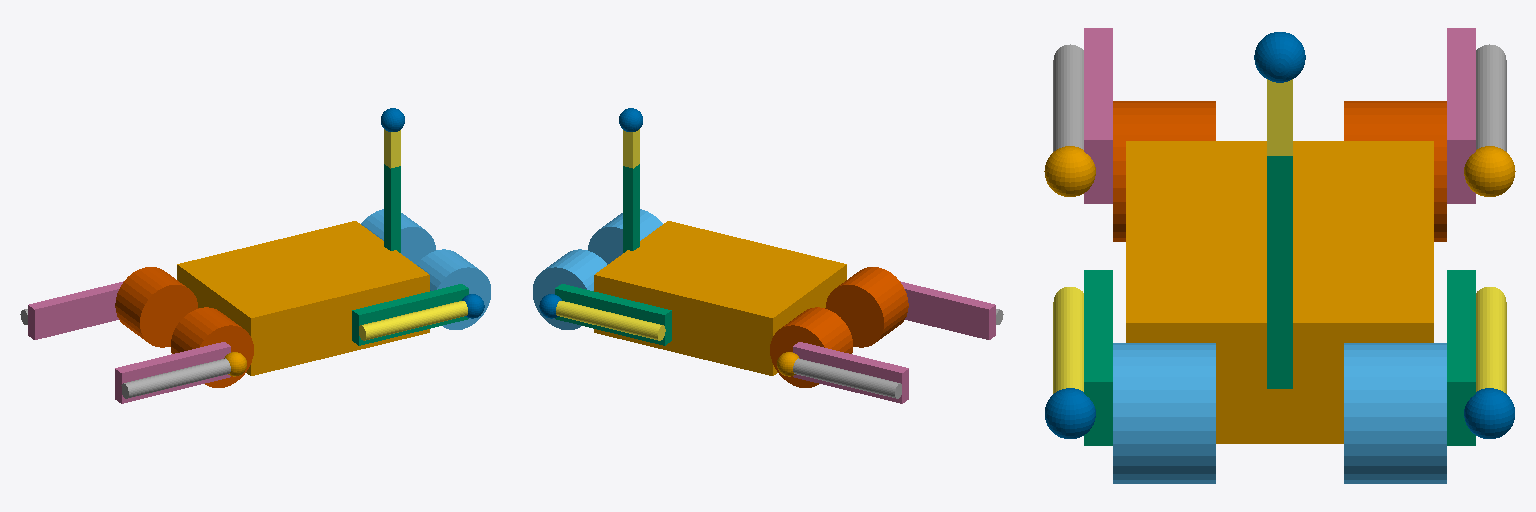
--- What the picture shows (computed from the rendered views, not written in the file) ---
3 views of the same robot in one strip: view 1: azimuth 30°, elevation 25°; view 2: azimuth 150°, elevation 25°; view 3: azimuth 270°, elevation 25° (orthographic).
Robot: spirit — 21 links, 20 joints (14 revolute, 6 fixed); root link body; default pose: joints at zero except 1 at the middle of their limits (body_tail_joint_0 = -1.57).
Visible links, largest first — view 1: body, hip1, upper1, hip3, upper2, upper3, hip2, lower2, lower3, hip0, tail_link_0, tail_link_1; view 2: body, hip3, upper3, hip1, upper0, upper1, hip0, lower0, lower1, hip2, tail_link_0, tail_link_1; view 3: body, hip0, hip2, tail_link_0, hip1, hip3, upper0, upper2, upper1, upper3, lower1, lower3 (+8 smaller).
Link boxes in pixels (left/top/right/bottom): body: left=177, top=221, right=429, bottom=375; hip1: left=115, top=267, right=198, bottom=347; upper1: left=28, top=281, right=123, bottom=339; hip3: left=171, top=307, right=253, bottom=387; upper2: left=352, top=284, right=468, bottom=345; upper3: left=115, top=342, right=230, bottom=403; hip2: left=417, top=249, right=490, bottom=329; lower2: left=359, top=301, right=467, bottom=340; lower3: left=121, top=358, right=230, bottom=398; hip0: left=361, top=209, right=435, bottom=264; tail_link_0: left=384, top=164, right=400, bottom=252; tail_link_1: left=384, top=129, right=400, bottom=168; body: left=594, top=221, right=846, bottom=375; hip3: left=825, top=267, right=908, bottom=347; upper3: left=900, top=281, right=995, bottom=339; hip1: left=770, top=307, right=852, bottom=387; upper0: left=555, top=284, right=671, bottom=345; upper1: left=793, top=342, right=908, bottom=403; hip0: left=533, top=249, right=606, bottom=329; lower0: left=556, top=301, right=665, bottom=340; lower1: left=793, top=358, right=901, bottom=398; hip2: left=588, top=209, right=662, bottom=264; tail_link_0: left=623, top=164, right=639, bottom=252; tail_link_1: left=623, top=129, right=639, bottom=168; body: left=1126, top=141, right=1433, bottom=443; hip0: left=1344, top=343, right=1446, bottom=483; hip2: left=1113, top=343, right=1215, bottom=483; tail_link_0: left=1267, top=156, right=1292, bottom=388; hip1: left=1344, top=101, right=1446, bottom=241; hip3: left=1113, top=101, right=1215, bottom=241; upper0: left=1447, top=270, right=1475, bottom=445; upper2: left=1084, top=270, right=1112, bottom=445; upper1: left=1447, top=28, right=1475, bottom=203; upper3: left=1084, top=28, right=1112, bottom=203; lower1: left=1476, top=44, right=1506, bottom=151; lower3: left=1053, top=44, right=1083, bottom=151.
Size in the robot's own frame: 0.706 by 0.366 by 0.355 metres.
Geometry: primitives only (box / cylinder / sphere), no mesh files.

robot.urdf — spirit:
<?xml version="1.0" encoding="utf-8"?>
<!-- =================================================================================== -->
<!-- |    This document was autogenerated by xacro from test_out_new.urdf.xacro        | -->
<!-- |    EDITING THIS FILE BY HAND IS NOT RECOMMENDED                                 | -->
<!-- =================================================================================== -->
<!-- 
MIT License (modified)
Copyright (c) 2020 Ghost Robotics
Authors:
Avik De <[email redacted]>
Tom Jacobs <[email redacted]>
Permission is hereby granted, free of charge, to any person obtaining a copy
of this **file** (the "Software"), to deal
in the Software without restriction, including without limitation the rights
to use, copy, modify, merge, publish, distribute, sublicense, and/or sell
copies of the Software, and to permit persons to whom the Software is
furnished to do so, subject to the following conditions:
The above copyright notice and this permission notice shall be included in all
copies or substantial portions of the Software.
THE SOFTWARE IS PROVIDED "AS IS", WITHOUT WARRANTY OF ANY KIND, EXPRESS OR
IMPLIED, INCLUDING BUT NOT LIMITED TO THE WARRANTIES OF MERCHANTABILITY,
FITNESS FOR A PARTICULAR PURPOSE AND NONINFRINGEMENT. IN NO EVENT SHALL THE
AUTHORS OR COPYRIGHT HOLDERS BE LIABLE FOR ANY CLAIM, DAMAGES OR OTHER
LIABILITY, WHETHER IN AN ACTION OF CONTRACT, TORT OR OTHERWISE, ARISING FROM,
OUT OF OR IN CONNECTION WITH THE SOFTWARE OR THE USE OR OTHER DEALINGS IN THE
SOFTWARE. 
-->
<robot name="spirit">
  <!-- Body -->
  <link name="body">
    <visual>
      <origin rpy="0 0 0" xyz="0 0 0"/>
      <geometry>
        <box size="0.335 0.24 0.104"/>
      </geometry>
      <material name="darkgray"/>
    </visual>
    <inertial>
      <mass value="5.75"/>
      <inertia ixx="0.05" ixy="0" ixz="0" iyy="0.1" iyz="0" izz="0.1"/>
    </inertial>
    <!-- Just copy geometry for collision -->
    <collision>
      <origin rpy="0 0 0" xyz="0 0 0"/>
      <geometry>
        <box size="0.335 0.24 0.104"/>
        <!-- <uri>model:///meshes/Spirit40_Body_Mesh_transformed.stl</uri> -->
      </geometry>
    </collision>
  </link>
  <gazebo reference="body">
    <material>Gazebo/Black</material>
    <gravity>true</gravity>
  </gazebo>
  <!-- Hip motor -->
  <link name="hip0">
    <visual>
      <origin rpy="1.5707963268 0 0" xyz="0 0.028 0"/>
      <geometry>
        <cylinder length="0.08" radius="0.055"/>
      </geometry>
    </visual>
    <collision>
      <origin rpy="1.5707963268 0 0" xyz="0 0.028 0"/>
      <geometry>
        Radius
					
        <box size="0.11 0.11 0.08"/>
      </geometry>
    </collision>
    <inertial>
      <origin rpy="0 0 0" xyz="0 0.028 0"/>
      <mass value="0.575"/>
      <inertia ixx="0.00066963541" ixy="0" ixz="0" iyy="0.00066963541" iyz="0" izz="0.0008696875"/>
    </inertial>
  </link>
  <gazebo reference="hip0">
    <material>Gazebo/Grey</material>
  </gazebo>
  <!-- Upper leg -->
  <link name="upper0">
    <visual>
      <origin rpy="0 0 0" xyz="-0.103 -0.022 0"/>
      <geometry>
        <box size="0.206 0.022 0.055"/>
      </geometry>
      <material name="silver"/>
    </visual>
    <collision>
      <origin rpy="0 0 0" xyz="-0.103 -0.022 0"/>
      <geometry>
        <box size="0.206 0.022 0.055"/>
      </geometry>
    </collision>
    <inertial>
      <origin rpy="0 0 0" xyz="-0.103 -0.022 0"/>
      <mass value="0.775"/>
      <inertia ixx="5e-05" ixy="0" ixz="0" iyy="0.001" iyz="0" izz="0.001"/>
    </inertial>
  </link>
  <gazebo reference="upper0">
    <material>Gazebo/DarkGrey</material>
  </gazebo>
  <!-- Abduction joint. Joint names are: 8 9 10 11 -->
  <joint name="8" type="revolute">
    <parent link="body"/>
    <child link="hip0"/>
    <axis xyz="1 0 0"/>
    <origin xyz="0.2225 0.062 0"/>
    <limit effort="40" lower="-0.707" upper="0.707" velocity="30"/>
    <dynamics damping="0.0" friction="0.0"/>
  </joint>
  <!-- Transmission elements required for Gazebo -->
  <transmission name="transmission_8">
    <type>transmission_interface/SimpleTransmission</type>
    <joint name="8">
      <hardwareInterface>hardware_interface/EffortJointInterface</hardwareInterface>
    </joint>
    <actuator name="motor_8">
      <hardwareInterface>EffortJointInterface</hardwareInterface>
      <mechanicalReduction>1</mechanicalReduction>
    </actuator>
  </transmission>
  <!-- Hip joint. (Motor to upper leg). Joint names are: 0 2 4 6 -->
  <joint name="0" type="revolute">
    <parent link="hip0"/>
    <child link="upper0"/>
    <axis xyz="0 -1 0"/>
    <origin xyz="0 0.10098 0"/>
    <!--  rpy="0 -0.3 0" -->
    <limit effort="40" lower="-6.28318530718" upper="6.28318530718" velocity="30"/>
    <dynamics damping="0.0" friction="0.0"/>
  </joint>
  <!-- Transmission elements required for Gazebo -->
  <transmission name="transmission_0">
    <type>transmission_interface/SimpleTransmission</type>
    <joint name="0">
      <hardwareInterface>hardware_interface/EffortJointInterface</hardwareInterface>
    </joint>
    <actuator name="motor_0">
      <hardwareInterface>EffortJointInterface</hardwareInterface>
      <mechanicalReduction>1</mechanicalReduction>
    </actuator>
  </transmission>
  <!-- Lower leg -->
  <link name="lower0">
    <visual>
      <origin rpy="0 1.5707963268 0" xyz="0.103 0 0"/>
      <geometry>
        <cylinder length="0.206" radius="0.013"/>
      </geometry>
      <material name="darkgray"/>
    </visual>
    <collision>
      <origin rpy="0 1.5707963268 0" xyz="0.103 0 0"/>
      <geometry>
        <cylinder length="0.206" radius="0.013"/>
      </geometry>
    </collision>
    <inertial>
      <origin rpy="0 0 0" xyz="0.103 0 0"/>
      <mass value="0.075"/>
      <inertia ixx="5e-06" ixy="0" ixz="0" iyy="0.0001" iyz="0" izz="0.0001"/>
    </inertial>
  </link>
  <gazebo reference="lower0">
    <material>Gazebo/Grey</material>
  </gazebo>
  <!-- Knee joint. Joint names are: 1 3 5 7 -->
  <joint name="1" type="revolute">
    <parent link="upper0"/>
    <child link="lower0"/>
    <axis xyz="0 1 0"/>
    <origin xyz="-0.206 0 0"/>
    <limit effort="40" lower="0" upper="3.14159265359" velocity="30"/>
    <dynamics damping="0.0" friction="0.0"/>
  </joint>
  <!-- Transmission elements required for Gazebo -->
  <transmission name="transmission_1">
    <type>transmission_interface/SimpleTransmission</type>
    <joint name="1">
      <hardwareInterface>hardware_interface/EffortJointInterface</hardwareInterface>
    </joint>
    <actuator name="motor_1">
      <hardwareInterface>EffortJointInterface</hardwareInterface>
      <mechanicalReduction>1</mechanicalReduction>
    </actuator>
  </transmission>
  <!-- Toe -->
  <link name="toe0">
    <contact>
      <friction_anchor/>
      <stiffness value="30000.0"/>
      <damping value="1000.0"/>
      <spinning_friction value="0.3"/>
      <lateral_friction value="50.0"/>
    </contact>
    <visual>
      <origin rpy="0 0 0" xyz="0 0 0"/>
      <geometry>
        <sphere radius="0.02"/>
      </geometry>
      <material name="darkgray"/>
    </visual>
    <collision>
      <origin rpy="0 0 0" xyz="0 0 0"/>
      <geometry>
        <sphere radius="0.02"/>
      </geometry>
    </collision>
    <inertial>
      <mass value="0.015"/>
      <inertia ixx="0.000025" ixy="0" ixz="0" iyy="0.000025" iyz="0" izz="0.000025"/>
    </inertial>
  </link>
  <gazebo reference="toe0">
    <material>Gazebo/Black</material>
    <collision>
      <surface>
        <bounce>
          <restitution_coefficient>0</restitution_coefficient>
          <threshold>1e+06</threshold>
        </bounce>
        <friction>
          <torsional>
            <coefficient>0.3</coefficient>
          </torsional>
          <ode>
            <mu>100.0</mu>
            <mu2>50.0</mu2>
          </ode>
          <bullet>
            <rolling_friction>0.3</rolling_friction>
            <friction2>50.0</friction2>
          </bullet>
        </friction>
        <contact>
          <bullet>
            <kp>30000.0</kp>
            <kd>1000.0</kd>
          </bullet>
          <ode>
            <kp>30000.0</kp>
            <kd>1000.0</kd>
          </ode>
        </contact>
      </surface>
    </collision>
    <sensor name="toe0_contact" type="contact">
      <plugin filename="libgazebo_ros_bumper.so" name="toe0_plugin">
        <alwaysOn>1</alwaysOn>
        <updateRate>1000</updateRate>
        <bumperTopicName>gazebo/toe0_contact_state</bumperTopicName>
        <frameName>world</frameName>
        <robotNamespace>/</robotNamespace>
      </plugin>
      <contact>
        <collision>toe0_collision</collision>
        <topic>__default_topic__</topic>
      </contact>
      <update_rate>1000</update_rate>
    </sensor>
  </gazebo>
  <!-- Hip motor -->
  <link name="hip1">
    <visual>
      <origin rpy="1.5707963268 0 0" xyz="0 0.028 0"/>
      <geometry>
        <cylinder length="0.08" radius="0.055"/>
      </geometry>
    </visual>
    <collision>
      <origin rpy="1.5707963268 0 0" xyz="0 0.028 0"/>
      <geometry>
        Radius
					
        <box size="0.11 0.11 0.08"/>
      </geometry>
    </collision>
    <inertial>
      <origin rpy="0 0 0" xyz="0 0.028 0"/>
      <mass value="0.575"/>
      <inertia ixx="0.00066963541" ixy="0" ixz="0" iyy="0.00066963541" iyz="0" izz="0.0008696875"/>
    </inertial>
  </link>
  <gazebo reference="hip1">
    <material>Gazebo/Grey</material>
  </gazebo>
  <!-- Upper leg -->
  <link name="upper1">
    <visual>
      <origin rpy="0 0 0" xyz="-0.103 -0.022 0"/>
      <geometry>
        <box size="0.206 0.022 0.055"/>
      </geometry>
      <material name="silver"/>
    </visual>
    <collision>
      <origin rpy="0 0 0" xyz="-0.103 -0.022 0"/>
      <geometry>
        <box size="0.206 0.022 0.055"/>
      </geometry>
    </collision>
    <inertial>
      <origin rpy="0 0 0" xyz="-0.103 -0.022 0"/>
      <mass value="0.775"/>
      <inertia ixx="5e-05" ixy="0" ixz="0" iyy="0.001" iyz="0" izz="0.001"/>
    </inertial>
  </link>
  <gazebo reference="upper1">
    <material>Gazebo/DarkGrey</material>
  </gazebo>
  <!-- Abduction joint. Joint names are: 8 9 10 11 -->
  <joint name="9" type="revolute">
    <parent link="body"/>
    <child link="hip1"/>
    <axis xyz="1 0 0"/>
    <origin xyz="-0.2225 0.062 0"/>
    <limit effort="40" lower="-0.707" upper="0.707" velocity="30"/>
    <dynamics damping="0.0" friction="0.0"/>
  </joint>
  <!-- Transmission elements required for Gazebo -->
  <transmission name="transmission_9">
    <type>transmission_interface/SimpleTransmission</type>
    <joint name="9">
      <hardwareInterface>hardware_interface/EffortJointInterface</hardwareInterface>
    </joint>
    <actuator name="motor_9">
      <hardwareInterface>EffortJointInterface</hardwareInterface>
      <mechanicalReduction>1</mechanicalReduction>
    </actuator>
  </transmission>
  <!-- Hip joint. (Motor to upper leg). Joint names are: 0 2 4 6 -->
  <joint name="2" type="revolute">
    <parent link="hip1"/>
    <child link="upper1"/>
    <axis xyz="0 -1 0"/>
    <origin xyz="0 0.10098 0"/>
    <!--  rpy="0 -0.3 0" -->
    <limit effort="40" lower="-6.28318530718" upper="6.28318530718" velocity="30"/>
    <dynamics damping="0.0" friction="0.0"/>
  </joint>
  <!-- Transmission elements required for Gazebo -->
  <transmission name="transmission_2">
    <type>transmission_interface/SimpleTransmission</type>
    <joint name="2">
      <hardwareInterface>hardware_interface/EffortJointInterface</hardwareInterface>
    </joint>
    <actuator name="motor_2">
      <hardwareInterface>EffortJointInterface</hardwareInterface>
      <mechanicalReduction>1</mechanicalReduction>
    </actuator>
  </transmission>
  <!-- Lower leg -->
  <link name="lower1">
    <visual>
      <origin rpy="0 1.5707963268 0" xyz="0.103 0 0"/>
      <geometry>
        <cylinder length="0.206" radius="0.013"/>
      </geometry>
      <material name="darkgray"/>
    </visual>
    <collision>
      <origin rpy="0 1.5707963268 0" xyz="0.103 0 0"/>
      <geometry>
        <cylinder length="0.206" radius="0.013"/>
      </geometry>
    </collision>
    <inertial>
      <origin rpy="0 0 0" xyz="0.103 0 0"/>
      <mass value="0.075"/>
      <inertia ixx="5e-06" ixy="0" ixz="0" iyy="0.0001" iyz="0" izz="0.0001"/>
    </inertial>
  </link>
  <gazebo reference="lower1">
    <material>Gazebo/Grey</material>
  </gazebo>
  <!-- Knee joint. Joint names are: 1 3 5 7 -->
  <joint name="3" type="revolute">
    <parent link="upper1"/>
    <child link="lower1"/>
    <axis xyz="0 1 0"/>
    <origin xyz="-0.206 0 0"/>
    <limit effort="40" lower="0" upper="3.14159265359" velocity="30"/>
    <dynamics damping="0.0" friction="0.0"/>
  </joint>
  <!-- Transmission elements required for Gazebo -->
  <transmission name="transmission_3">
    <type>transmission_interface/SimpleTransmission</type>
    <joint name="3">
      <hardwareInterface>hardware_interface/EffortJointInterface</hardwareInterface>
    </joint>
    <actuator name="motor_3">
      <hardwareInterface>EffortJointInterface</hardwareInterface>
      <mechanicalReduction>1</mechanicalReduction>
    </actuator>
  </transmission>
  <!-- Toe -->
  <link name="toe1">
    <contact>
      <friction_anchor/>
      <stiffness value="30000.0"/>
      <damping value="1000.0"/>
      <spinning_friction value="0.3"/>
      <lateral_friction value="50.0"/>
    </contact>
    <visual>
      <origin rpy="0 0 0" xyz="0 0 0"/>
      <geometry>
        <sphere radius="0.02"/>
      </geometry>
      <material name="darkgray"/>
    </visual>
    <collision>
      <origin rpy="0 0 0" xyz="0 0 0"/>
      <geometry>
        <sphere radius="0.02"/>
      </geometry>
    </collision>
    <inertial>
      <mass value="0.015"/>
      <inertia ixx="0.000025" ixy="0" ixz="0" iyy="0.000025" iyz="0" izz="0.000025"/>
    </inertial>
  </link>
  <gazebo reference="toe1">
    <material>Gazebo/Black</material>
    <collision>
      <surface>
        <bounce>
          <restitution_coefficient>0</restitution_coefficient>
          <threshold>1e+06</threshold>
        </bounce>
        <friction>
          <torsional>
            <coefficient>0.3</coefficient>
          </torsional>
          <ode>
            <mu>100.0</mu>
            <mu2>50.0</mu2>
          </ode>
          <bullet>
            <rolling_friction>0.3</rolling_friction>
            <friction2>50.0</friction2>
          </bullet>
        </friction>
        <contact>
          <bullet>
            <kp>30000.0</kp>
            <kd>1000.0</kd>
          </bullet>
          <ode>
            <kp>30000.0</kp>
            <kd>1000.0</kd>
          </ode>
        </contact>
      </surface>
    </collision>
    <sensor name="toe1_contact" type="contact">
      <plugin filename="libgazebo_ros_bumper.so" name="toe1_plugin">
        <alwaysOn>1</alwaysOn>
        <updateRate>1000</updateRate>
        <bumperTopicName>gazebo/toe1_contact_state</bumperTopicName>
        <frameName>world</frameName>
        <robotNamespace>/</robotNamespace>
      </plugin>
      <contact>
        <collision>toe1_collision</collision>
        <topic>__default_topic__</topic>
      </contact>
      <update_rate>1000</update_rate>
    </sensor>
  </gazebo>
  <!-- Hip motor -->
  <link name="hip2">
    <visual>
      <origin rpy="1.5707963268 0 0" xyz="0 -0.028 0"/>
      <geometry>
        <cylinder length="0.08" radius="0.055"/>
      </geometry>
    </visual>
    <collision>
      <origin rpy="1.5707963268 0 0" xyz="0 -0.028 0"/>
      <geometry>
        Radius
					
        <box size="0.11 0.11 0.08"/>
      </geometry>
    </collision>
    <inertial>
      <origin rpy="0 0 0" xyz="0 -0.028 0"/>
      <mass value="0.575"/>
      <inertia ixx="0.00066963541" ixy="0" ixz="0" iyy="0.00066963541" iyz="0" izz="0.0008696875"/>
    </inertial>
  </link>
  <gazebo reference="hip2">
    <material>Gazebo/Grey</material>
  </gazebo>
  <!-- Upper leg -->
  <link name="upper2">
    <visual>
      <origin rpy="0 0 0" xyz="-0.103 0.022 0"/>
      <geometry>
        <box size="0.206 0.022 0.055"/>
      </geometry>
      <material name="silver"/>
    </visual>
    <collision>
      <origin rpy="0 0 0" xyz="-0.103 0.022 0"/>
      <geometry>
        <box size="0.206 0.022 0.055"/>
      </geometry>
    </collision>
    <inertial>
      <origin rpy="0 0 0" xyz="-0.103 0.022 0"/>
      <mass value="0.775"/>
      <inertia ixx="5e-05" ixy="0" ixz="0" iyy="0.001" iyz="0" izz="0.001"/>
    </inertial>
  </link>
  <gazebo reference="upper2">
    <material>Gazebo/DarkGrey</material>
  </gazebo>
  <!-- Abduction joint. Joint names are: 8 9 10 11 -->
  <joint name="10" type="revolute">
    <parent link="body"/>
    <child link="hip2"/>
    <axis xyz="1 0 0"/>
    <origin xyz="0.2225 -0.062 0"/>
    <limit effort="40" lower="-0.707" upper="0.707" velocity="30"/>
    <dynamics damping="0.0" friction="0.0"/>
  </joint>
  <!-- Transmission elements required for Gazebo -->
  <transmission name="transmission_10">
    <type>transmission_interface/SimpleTransmission</type>
    <joint name="10">
      <hardwareInterface>hardware_interface/EffortJointInterface</hardwareInterface>
    </joint>
    <actuator name="motor_10">
      <hardwareInterface>EffortJointInterface</hardwareInterface>
      <mechanicalReduction>1</mechanicalReduction>
    </actuator>
  </transmission>
  <!-- Hip joint. (Motor to upper leg). Joint names are: 0 2 4 6 -->
  <joint name="4" type="revolute">
    <parent link="hip2"/>
    <child link="upper2"/>
    <axis xyz="0 -1 0"/>
    <origin xyz="0 -0.10098 0"/>
    <!--  rpy="0 -0.3 0" -->
    <limit effort="40" lower="-6.28318530718" upper="6.28318530718" velocity="30"/>
    <dynamics damping="0.0" friction="0.0"/>
  </joint>
  <!-- Transmission elements required for Gazebo -->
  <transmission name="transmission_4">
    <type>transmission_interface/SimpleTransmission</type>
    <joint name="4">
      <hardwareInterface>hardware_interface/EffortJointInterface</hardwareInterface>
    </joint>
    <actuator name="motor_4">
      <hardwareInterface>EffortJointInterface</hardwareInterface>
      <mechanicalReduction>1</mechanicalReduction>
    </actuator>
  </transmission>
  <!-- Lower leg -->
  <link name="lower2">
    <visual>
      <origin rpy="0 1.5707963268 0" xyz="0.103 0 0"/>
      <geometry>
        <cylinder length="0.206" radius="0.013"/>
      </geometry>
      <material name="darkgray"/>
    </visual>
    <collision>
      <origin rpy="0 1.5707963268 0" xyz="0.103 0 0"/>
      <geometry>
        <cylinder length="0.206" radius="0.013"/>
      </geometry>
    </collision>
    <inertial>
      <origin rpy="0 0 0" xyz="0.103 0 0"/>
      <mass value="0.075"/>
      <inertia ixx="5e-06" ixy="0" ixz="0" iyy="0.0001" iyz="0" izz="0.0001"/>
    </inertial>
  </link>
  <gazebo reference="lower2">
    <material>Gazebo/Grey</material>
  </gazebo>
  <!-- Knee joint. Joint names are: 1 3 5 7 -->
  <joint name="5" type="revolute">
    <parent link="upper2"/>
    <child link="lower2"/>
    <axis xyz="0 1 0"/>
    <origin xyz="-0.206 0 0"/>
    <limit effort="40" lower="0" upper="3.14159265359" velocity="30"/>
    <dynamics damping="0.0" friction="0.0"/>
  </joint>
  <!-- Transmission elements required for Gazebo -->
  <transmission name="transmission_5">
    <type>transmission_interface/SimpleTransmission</type>
    <joint name="5">
      <hardwareInterface>hardware_interface/EffortJointInterface</hardwareInterface>
    </joint>
    <actuator name="motor_5">
      <hardwareInterface>EffortJointInterface</hardwareInterface>
      <mechanicalReduction>1</mechanicalReduction>
    </actuator>
  </transmission>
  <!-- Toe -->
  <link name="toe2">
    <contact>
      <friction_anchor/>
      <stiffness value="30000.0"/>
      <damping value="1000.0"/>
      <spinning_friction value="0.3"/>
      <lateral_friction value="50.0"/>
    </contact>
    <visual>
      <origin rpy="0 0 0" xyz="0 0 0"/>
      <geometry>
        <sphere radius="0.02"/>
      </geometry>
      <material name="darkgray"/>
    </visual>
    <collision>
      <origin rpy="0 0 0" xyz="0 0 0"/>
      <geometry>
        <sphere radius="0.02"/>
      </geometry>
    </collision>
    <inertial>
      <mass value="0.015"/>
      <inertia ixx="0.000025" ixy="0" ixz="0" iyy="0.000025" iyz="0" izz="0.000025"/>
    </inertial>
  </link>
  <gazebo reference="toe2">
    <material>Gazebo/Black</material>
    <collision>
      <surface>
        <bounce>
          <restitution_coefficient>0</restitution_coefficient>
          <threshold>1e+06</threshold>
        </bounce>
        <friction>
          <torsional>
            <coefficient>0.3</coefficient>
          </torsional>
          <ode>
            <mu>100.0</mu>
            <mu2>50.0</mu2>
          </ode>
          <bullet>
            <rolling_friction>0.3</rolling_friction>
            <friction2>50.0</friction2>
          </bullet>
        </friction>
        <contact>
          <bullet>
            <kp>30000.0</kp>
            <kd>1000.0</kd>
          </bullet>
          <ode>
            <kp>30000.0</kp>
            <kd>1000.0</kd>
          </ode>
        </contact>
      </surface>
    </collision>
    <sensor name="toe2_contact" type="contact">
      <plugin filename="libgazebo_ros_bumper.so" name="toe2_plugin">
        <alwaysOn>1</alwaysOn>
        <updateRate>1000</updateRate>
        <bumperTopicName>gazebo/toe2_contact_state</bumperTopicName>
        <frameName>world</frameName>
        <robotNamespace>/</robotNamespace>
      </plugin>
      <contact>
        <collision>toe2_collision</collision>
        <topic>__default_topic__</topic>
      </contact>
      <update_rate>1000</update_rate>
    </sensor>
  </gazebo>
  <!-- Hip motor -->
  <link name="hip3">
    <visual>
      <origin rpy="1.5707963268 0 0" xyz="0 -0.028 0"/>
      <geometry>
        <cylinder length="0.08" radius="0.055"/>
      </geometry>
    </visual>
    <collision>
      <origin rpy="1.5707963268 0 0" xyz="0 -0.028 0"/>
      <geometry>
        Radius
					
        <box size="0.11 0.11 0.08"/>
      </geometry>
    </collision>
    <inertial>
      <origin rpy="0 0 0" xyz="0 -0.028 0"/>
      <mass value="0.575"/>
      <inertia ixx="0.00066963541" ixy="0" ixz="0" iyy="0.00066963541" iyz="0" izz="0.0008696875"/>
    </inertial>
  </link>
  <gazebo reference="hip3">
    <material>Gazebo/Grey</material>
  </gazebo>
  <!-- Upper leg -->
  <link name="upper3">
    <visual>
      <origin rpy="0 0 0" xyz="-0.103 0.022 0"/>
      <geometry>
        <box size="0.206 0.022 0.055"/>
      </geometry>
      <material name="silver"/>
    </visual>
    <collision>
      <origin rpy="0 0 0" xyz="-0.103 0.022 0"/>
      <geometry>
        <box size="0.206 0.022 0.055"/>
      </geometry>
    </collision>
    <inertial>
      <origin rpy="0 0 0" xyz="-0.103 0.022 0"/>
      <mass value="0.775"/>
      <inertia ixx="5e-05" ixy="0" ixz="0" iyy="0.001" iyz="0" izz="0.001"/>
    </inertial>
  </link>
  <gazebo reference="upper3">
    <material>Gazebo/DarkGrey</material>
  </gazebo>
  <!-- Abduction joint. Joint names are: 8 9 10 11 -->
  <joint name="11" type="revolute">
    <parent link="body"/>
    <child link="hip3"/>
    <axis xyz="1 0 0"/>
    <origin xyz="-0.2225 -0.062 0"/>
    <limit effort="40" lower="-0.707" upper="0.707" velocity="30"/>
    <dynamics damping="0.0" friction="0.0"/>
  </joint>
  <!-- Transmission elements required for Gazebo -->
  <transmission name="transmission_11">
    <type>transmission_interface/SimpleTransmission</type>
    <joint name="11">
      <hardwareInterface>hardware_interface/EffortJointInterface</hardwareInterface>
    </joint>
    <actuator name="motor_11">
      <hardwareInterface>EffortJointInterface</hardwareInterface>
      <mechanicalReduction>1</mechanicalReduction>
    </actuator>
  </transmission>
  <!-- Hip joint. (Motor to upper leg). Joint names are: 0 2 4 6 -->
  <joint name="6" type="revolute">
    <parent link="hip3"/>
    <child link="upper3"/>
    <axis xyz="0 -1 0"/>
    <origin xyz="0 -0.10098 0"/>
    <!--  rpy="0 -0.3 0" -->
    <limit effort="40" lower="-6.28318530718" upper="6.28318530718" velocity="30"/>
    <dynamics damping="0.0" friction="0.0"/>
  </joint>
  <!-- Transmission elements required for Gazebo -->
  <transmission name="transmission_6">
    <type>transmission_interface/SimpleTransmission</type>
    <joint name="6">
      <hardwareInterface>hardware_interface/EffortJointInterface</hardwareInterface>
    </joint>
    <actuator name="motor_6">
      <hardwareInterface>EffortJointInterface</hardwareInterface>
      <mechanicalReduction>1</mechanicalReduction>
    </actuator>
  </transmission>
  <!-- Lower leg -->
  <link name="lower3">
    <visual>
      <origin rpy="0 1.5707963268 0" xyz="0.103 0 0"/>
      <geometry>
        <cylinder length="0.206" radius="0.013"/>
      </geometry>
      <material name="darkgray"/>
    </visual>
    <collision>
      <origin rpy="0 1.5707963268 0" xyz="0.103 0 0"/>
      <geometry>
        <cylinder length="0.206" radius="0.013"/>
      </geometry>
    </collision>
    <inertial>
      <origin rpy="0 0 0" xyz="0.103 0 0"/>
      <mass value="0.075"/>
      <inertia ixx="5e-06" ixy="0" ixz="0" iyy="0.0001" iyz="0" izz="0.0001"/>
    </inertial>
  </link>
  <gazebo reference="lower3">
    <material>Gazebo/Grey</material>
  </gazebo>
  <!-- Knee joint. Joint names are: 1 3 5 7 -->
  <joint name="7" type="revolute">
    <parent link="upper3"/>
    <child link="lower3"/>
    <axis xyz="0 1 0"/>
    <origin xyz="-0.206 0 0"/>
    <limit effort="40" lower="0" upper="3.14159265359" velocity="30"/>
    <dynamics damping="0.0" friction="0.0"/>
  </joint>
  <!-- Transmission elements required for Gazebo -->
  <transmission name="transmission_7">
    <type>transmission_interface/SimpleTransmission</type>
    <joint name="7">
      <hardwareInterface>hardware_interface/EffortJointInterface</hardwareInterface>
    </joint>
    <actuator name="motor_7">
      <hardwareInterface>EffortJointInterface</hardwareInterface>
      <mechanicalReduction>1</mechanicalReduction>
    </actuator>
  </transmission>
  <!-- Toe -->
  <link name="toe3">
    <contact>
      <friction_anchor/>
      <stiffness value="30000.0"/>
      <damping value="1000.0"/>
      <spinning_friction value="0.3"/>
      <lateral_friction value="50.0"/>
    </contact>
    <visual>
      <origin rpy="0 0 0" xyz="0 0 0"/>
      <geometry>
        <sphere radius="0.02"/>
      </geometry>
      <material name="darkgray"/>
    </visual>
    <collision>
      <origin rpy="0 0 0" xyz="0 0 0"/>
      <geometry>
        <sphere radius="0.02"/>
      </geometry>
    </collision>
    <inertial>
      <mass value="0.015"/>
      <inertia ixx="0.000025" ixy="0" ixz="0" iyy="0.000025" iyz="0" izz="0.000025"/>
    </inertial>
  </link>
  <gazebo reference="toe3">
    <material>Gazebo/Black</material>
    <collision>
      <surface>
        <bounce>
          <restitution_coefficient>0</restitution_coefficient>
          <threshold>1e+06</threshold>
        </bounce>
        <friction>
          <torsional>
            <coefficient>0.3</coefficient>
          </torsional>
          <ode>
            <mu>100.0</mu>
            <mu2>50.0</mu2>
          </ode>
          <bullet>
            <rolling_friction>0.3</rolling_friction>
            <friction2>50.0</friction2>
          </bullet>
        </friction>
        <contact>
          <bullet>
            <kp>30000.0</kp>
            <kd>1000.0</kd>
          </bullet>
          <ode>
            <kp>30000.0</kp>
            <kd>1000.0</kd>
          </ode>
        </contact>
      </surface>
    </collision>
    <sensor name="toe3_contact" type="contact">
      <plugin filename="libgazebo_ros_bumper.so" name="toe3_plugin">
        <alwaysOn>1</alwaysOn>
        <updateRate>1000</updateRate>
        <bumperTopicName>gazebo/toe3_contact_state</bumperTopicName>
        <frameName>world</frameName>
        <robotNamespace>/</robotNamespace>
      </plugin>
      <contact>
        <collision>toe3_collision</collision>
        <topic>__default_topic__</topic>
      </contact>
      <update_rate>1000</update_rate>
    </sensor>
  </gazebo>
  <link name="imu::link">
    <visual>
      <origin rpy="0 0 0" xyz="0 0 0"/>
      <geometry>
        <sphere radius="0.02"/>
      </geometry>
      <material name="gray"/>
    </visual>
    <inertial>
      <mass value="0.001"/>
      <inertia ixx="0.0001" ixy="0" ixz="0" iyy="0" iyz="0" izz="0"/>
    </inertial>
  </link>
  <gazebo reference="imu::link">
    <material>Gazebo/Gray</material>
    <sensor name="imu_sensor" type="imu">
      <always_on>1</always_on>
      <update_rate>100</update_rate>
      <visualize>1</visualize>
      <topic>__default_topic__</topic>
      <plugin filename="libgazebo_ros_imu_sensor.so" name="imu_plugin">
        <topicName>/mcu/state/imu</topicName>
        <bodyName>imu::link</bodyName>
        <robotNamespace>/</robotNamespace>
        <updateRateHZ>500.0</updateRateHZ>
        <gaussianNoise>0.0</gaussianNoise>
        <xyzOffset>0 0 0</xyzOffset>
        <rpyOffset>0 0 0</rpyOffset>
        <frameName>imu::link</frameName>
        <initialOrientationAsReference>0</initialOrientationAsReference>
      </plugin>
      <pose frame="">0 0 0 0 -0 0</pose>
      <imu/>
    </sensor>
  </gazebo>
  <link name="tail_link_0">
    <visual>
      <origin rpy="0 0 0" xyz="0.1 0 0"/>
      <geometry>
        <box size="0.2 0.02 0.02"/>
      </geometry>
      <material name="darkgray"/>
    </visual>
    <inertial>
      <origin rpy="0 0 0" xyz="0.1 0 0"/>
      <mass value="0.008"/>
      <inertia ixx="0.0001" ixy="0" ixz="0" iyy="0.0001" iyz="0" izz="0.0001"/>
    </inertial>
    <!-- Just copy geometry for collision -->
    <!-- <collision>
		<origin rpy="0 0 0" xyz="${neckLength1/2} 0 0"/>
			<geometry>
				<box size="${neckLength1} ${neckWidth} ${neckHeight}"/>
			</geometry>
		</collision> -->
  </link>
  <gazebo reference="tail_link_0">
    <material>Gazebo/Gray</material>
  </gazebo>
  <link name="tail_link_1">
    <visual>
      <origin rpy="0 0 0" xyz="0.04 0 0"/>
      <geometry>
        <box size="0.08 0.02 0.02"/>
      </geometry>
      <material name="darkgray"/>
    </visual>
    <inertial>
      <origin rpy="0 0 0" xyz="0.04 0 0"/>
      <mass value="0.00032"/>
      <inertia ixx="0.0001" ixy="0" ixz="0" iyy="0.0001" iyz="0" izz="0.0001"/>
    </inertial>
    <!-- Just copy geometry for collision -->
    <!-- <collision>
		<origin rpy="0 0 0" xyz="${neckLength2/2} 0 0"/>
			<geometry>
				<box size="${neckLength2} ${neckWidth} ${neckHeight}"/>
			</geometry>
		</collision> -->
  </link>
  <gazebo reference="tail_link_1">
    <material>Gazebo/Gray</material>
  </gazebo>
  <link name="tail_mass">
    <visual>
      <origin rpy="0 0 0" xyz="0 0 0"/>
      <geometry>
        <sphere radius="0.02"/>
      </geometry>
      <material name="gray"/>
    </visual>
    <inertial>
      <mass value="0.005"/>
      <inertia ixx="0.001" ixy="0" ixz="0" iyy="0" iyz="0" izz="0"/>
    </inertial>
    <collision>
      <origin rpy="0 0 0" xyz="0 0 0"/>
      <geometry>
        <sphere radius="0.02"/>
      </geometry>
    </collision>
  </link>
  <gazebo reference="tail_mass">
    <material>Gazebo/Gray</material>
  </gazebo>
  <joint name="body_tail_joint_0" type="revolute">
    <parent link="body"/>
    <child link="tail_link_0"/>
    <axis xyz="0 1 0"/>
    <!-- <origin xyz="${neckAttachmentX} 0 0"/> -->
    <origin xyz="0.1675 0 0"/>
    <limit effort="35" lower="-1.57" upper="-1.57" velocity="1000000"/>
    <dynamics damping="0.0" friction="0.0"/>
  </joint>
  <!-- Transmission elements required for Gazebo -->
  <transmission name="transmission_body_tail_joint_0">
    <type>transmission_interface/SimpleTransmission</type>
    <joint name="body_tail_joint_0">
      <hardwareInterface>hardware_interface/EffortJointInterface</hardwareInterface>
    </joint>
    <actuator name="motor_body_tail_joint_0">
      <hardwareInterface>EffortJointInterface</hardwareInterface>
      <mechanicalReduction>1</mechanicalReduction>
    </actuator>
  </transmission>
  <joint name="body_tail_joint_1" type="revolute">
    <parent link="tail_link_0"/>
    <child link="tail_link_1"/>
    <axis xyz="0 1 0"/>
    <origin xyz="0.2 0 0"/>
    <limit effort="35" lower="-1.57" upper="1.57" velocity="1000000"/>
    <dynamics damping="0.0" friction="0.0"/>
  </joint>
  <!-- Transmission elements required for Gazebo -->
  <transmission name="transmission_body_tail_joint_1">
    <type>transmission_interface/SimpleTransmission</type>
    <joint name="body_tail_joint_1">
      <hardwareInterface>hardware_interface/EffortJointInterface</hardwareInterface>
    </joint>
    <actuator name="motor_body_tail_joint_1">
      <hardwareInterface>EffortJointInterface</hardwareInterface>
      <mechanicalReduction>1</mechanicalReduction>
    </actuator>
  </transmission>
  <joint name="tail_link_mass_joint" type="fixed">
    <parent link="tail_link_1"/>
    <child link="tail_mass"/>
    <origin xyz="0.08 0 0"/>
    <dynamics damping="0.0" friction="0.0"/>
  </joint>
  <gazebo reference="tail_link_mass_joint">
    <disableFixedJointLumping>1</disableFixedJointLumping>
    <preserveFixedJoint>1</preserveFixedJoint>
  </gazebo>
  <joint name="jtoe0" type="fixed">
    <parent link="lower0"/>
    <child link="toe0"/>
    <origin xyz="0.206 0 -0.0"/>
    <dynamics damping="0.0" friction="0.0"/>
  </joint>
  <gazebo reference="jtoe0">
    <disableFixedJointLumping>1</disableFixedJointLumping>
    <preserveFixedJoint>1</preserveFixedJoint>
  </gazebo>
  <joint name="jtoe1" type="fixed">
    <parent link="lower1"/>
    <child link="toe1"/>
    <origin xyz="0.206 0 -0.0"/>
    <dynamics damping="0.0" friction="0.0"/>
  </joint>
  <gazebo reference="jtoe1">
    <disableFixedJointLumping>1</disableFixedJointLumping>
    <preserveFixedJoint>1</preserveFixedJoint>
  </gazebo>
  <joint name="jtoe2" type="fixed">
    <parent link="lower2"/>
    <child link="toe2"/>
    <origin xyz="0.206 0 -0.0"/>
    <dynamics damping="0.0" friction="0.0"/>
  </joint>
  <gazebo reference="jtoe2">
    <disableFixedJointLumping>1</disableFixedJointLumping>
    <preserveFixedJoint>1</preserveFixedJoint>
  </gazebo>
  <joint name="jtoe3" type="fixed">
    <parent link="lower3"/>
    <child link="toe3"/>
    <origin xyz="0.206 0 -0.0"/>
    <dynamics damping="0.0" friction="0.0"/>
  </joint>
  <gazebo reference="jtoe3">
    <disableFixedJointLumping>1</disableFixedJointLumping>
    <preserveFixedJoint>1</preserveFixedJoint>
  </gazebo>
  <joint name="imu_joint" type="fixed">
    <parent link="body"/>
    <child link="imu::link"/>
  </joint>
  <gazebo reference="imu_joint">
    <disableFixedJointLumping>1</disableFixedJointLumping>
    <preserveFixedJoint>1</preserveFixedJoint>
  </gazebo>
  <!--    CUSTOMIZED SECTIONS	ABOVE. NOT FROM GHOST ROBOTICS.    -->
  <!-- Add ros_control plugin -->
  <gazebo>
    <plugin filename="libgazebo_ros_control.so" name="gazebo_ros_control">
      <robotNamespace>/spirit</robotNamespace>
      <controlPeriod>0.002</controlPeriod>
    </plugin>
    <plugin filename="libground_truth_estimator.so" name="ground_truth_estimator">
      <updateRateHZ>500.0</updateRateHZ>
      <robotNamespace>/</robotNamespace>
    </plugin>
  </gazebo>
</robot>
